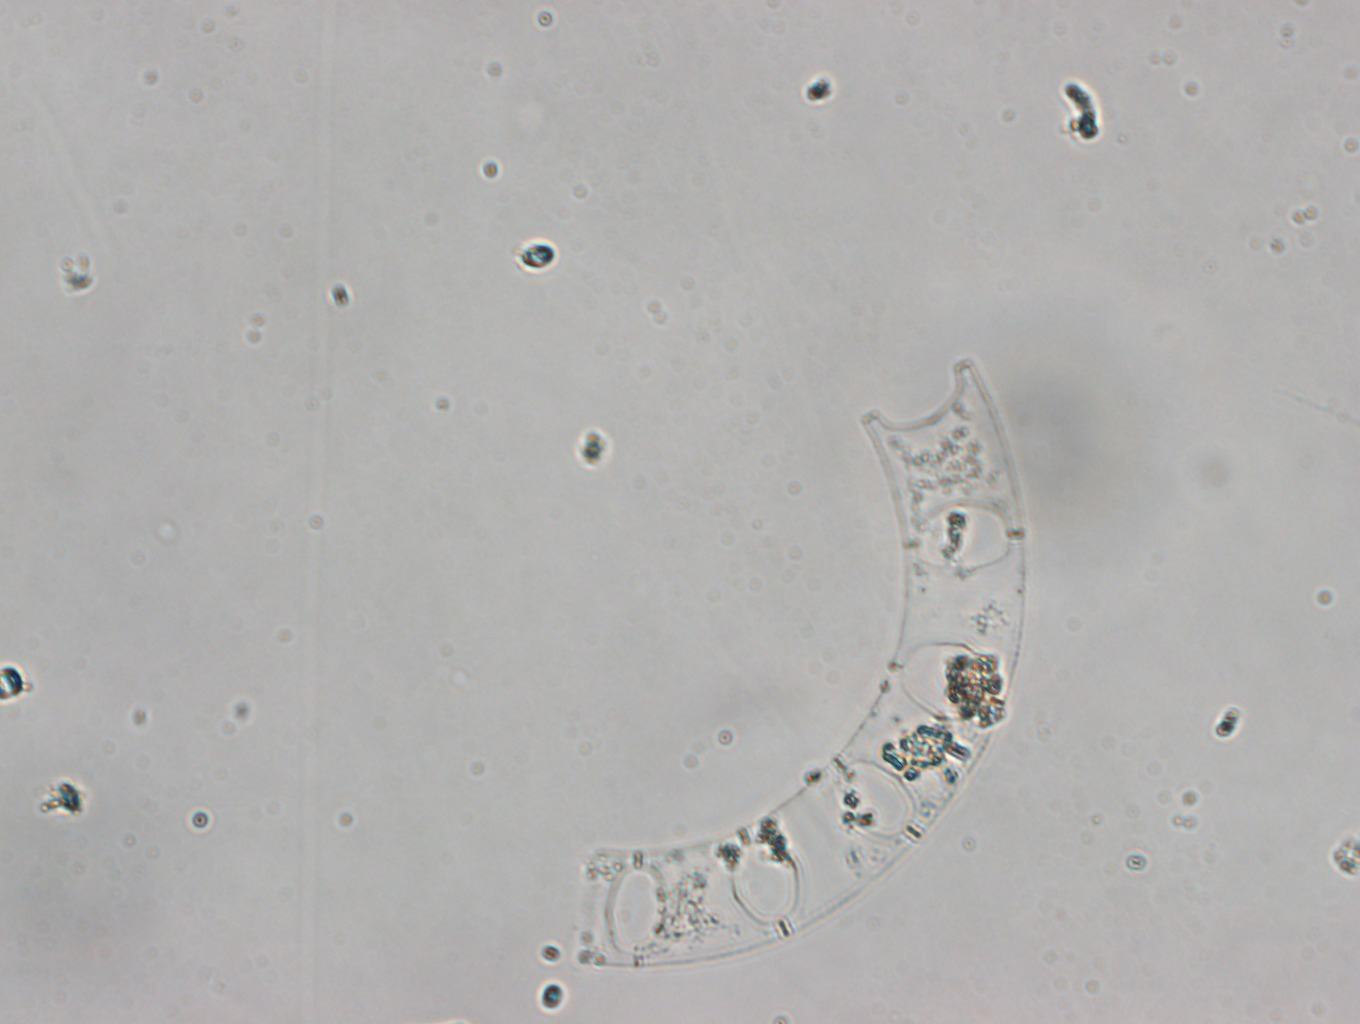eucampia: (578, 356, 1028, 968)
